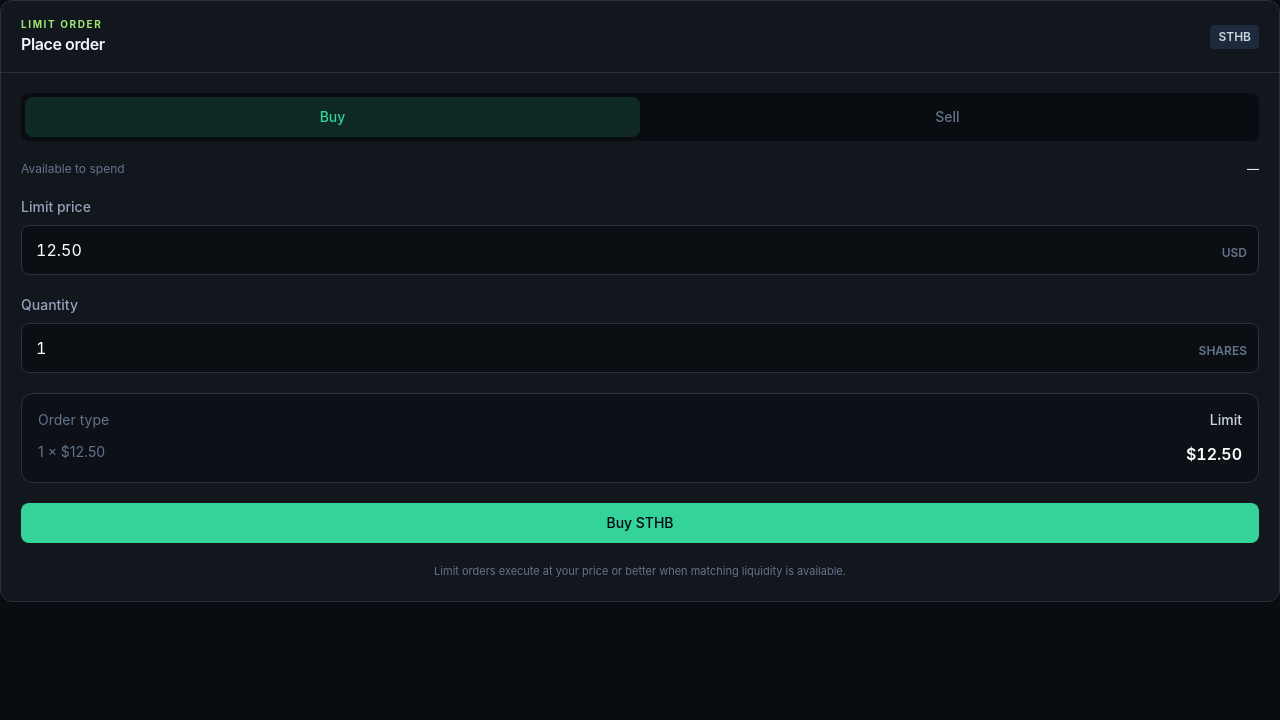
OrderTicket › submits a valid buy order using the selected asset
Replace the text in the number field labelled "Quantity" with "4" at [640, 348], box [21,323,1259,373]
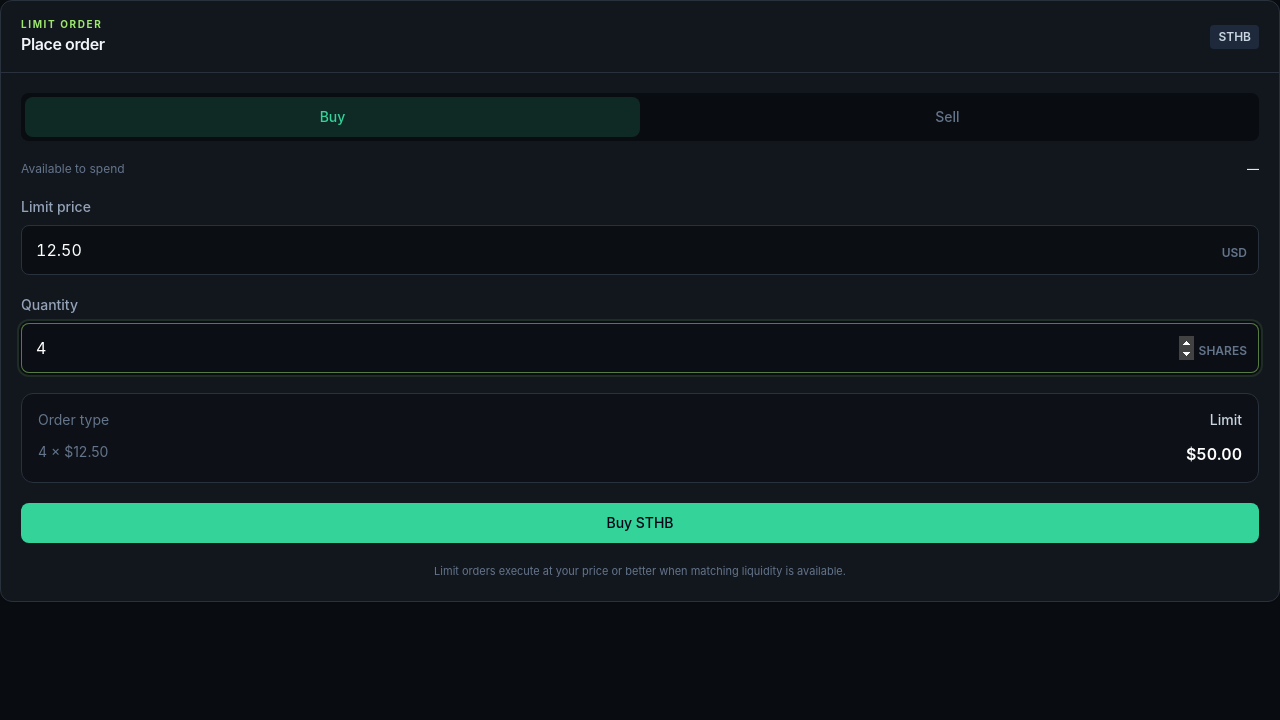
Click the button "Buy STHB" at [640, 523], box [21,503,1259,543]
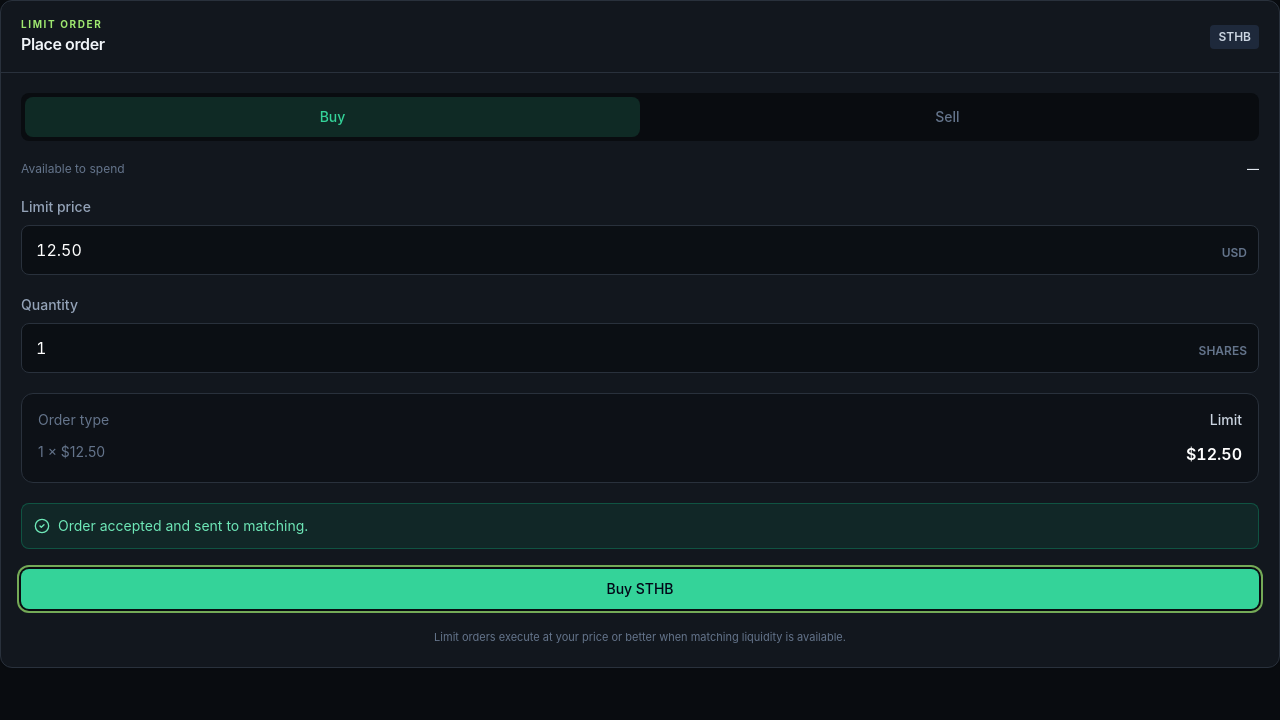
Check: the text "Order accepted and sent to matching." is shown, box [21,503,1259,549]
